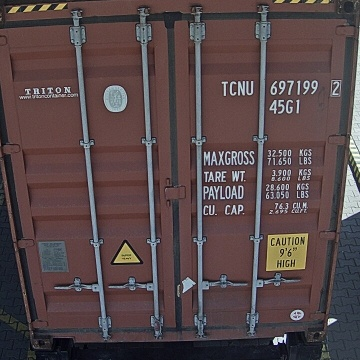serial_id: (221, 80, 341, 95)
